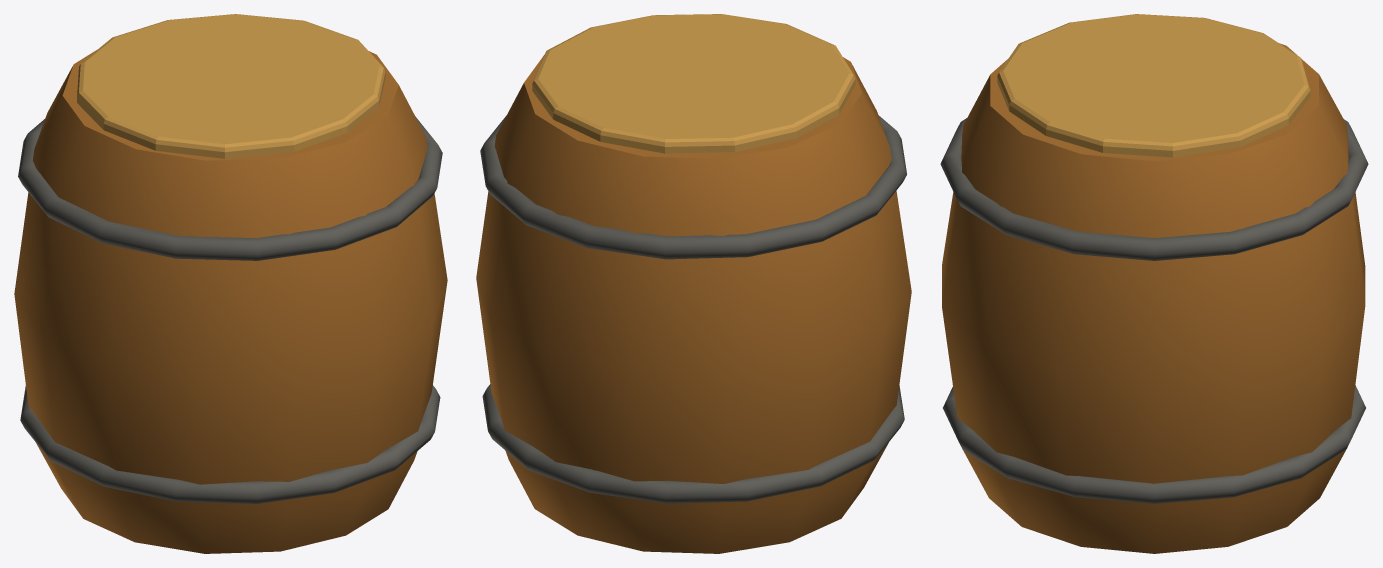
File: prop_barrel.glb
3 renders of one model, left to right at view 1: azimuth 30°, elevation 25°; view 2: azimuth 150°, elevation 25°; view 3: azimuth 270°, elevation 25°, orthographic.
Parts seen in each view (by area): view 1: barrel_body, barrel_lid, barrel_band_high, barrel_band_low; view 2: barrel_body, barrel_lid, barrel_band_high, barrel_band_low; view 3: barrel_body, barrel_lid, barrel_band_high, barrel_band_low.
Boxes of the visible parts, x1=… form: barrel_body: x1=14, y1=50, x2=447, y2=553; barrel_lid: x1=77, y1=14, x2=385, y2=158; barrel_band_high: x1=18, y1=116, x2=442, y2=260; barrel_band_low: x1=20, y1=385, x2=440, y2=503; barrel_body: x1=476, y1=54, x2=911, y2=553; barrel_lid: x1=532, y1=14, x2=855, y2=153; barrel_band_high: x1=480, y1=115, x2=906, y2=259; barrel_band_low: x1=482, y1=384, x2=904, y2=503; barrel_body: x1=942, y1=43, x2=1365, y2=553; barrel_lid: x1=997, y1=14, x2=1310, y2=157; barrel_band_high: x1=940, y1=118, x2=1368, y2=260; barrel_band_low: x1=943, y1=385, x2=1365, y2=503.
Bounding box in the file's own units: 0.7424 × 0.7625 × 0.732.
